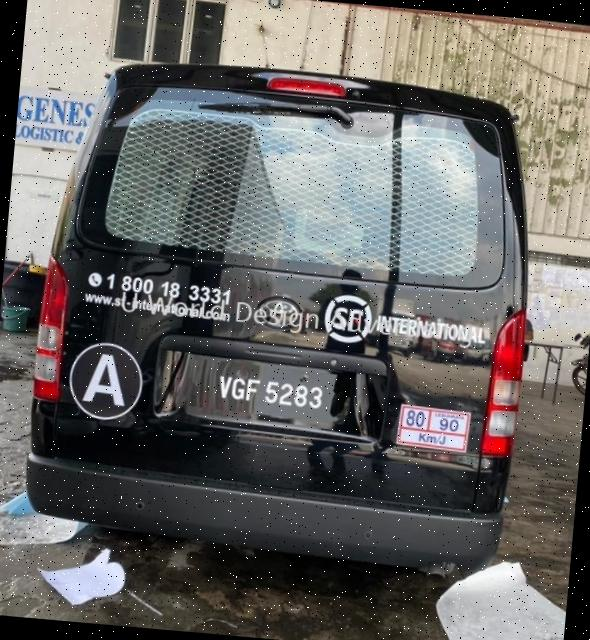License_Plate: (166, 345, 388, 465)
van: (15, 47, 558, 587)
